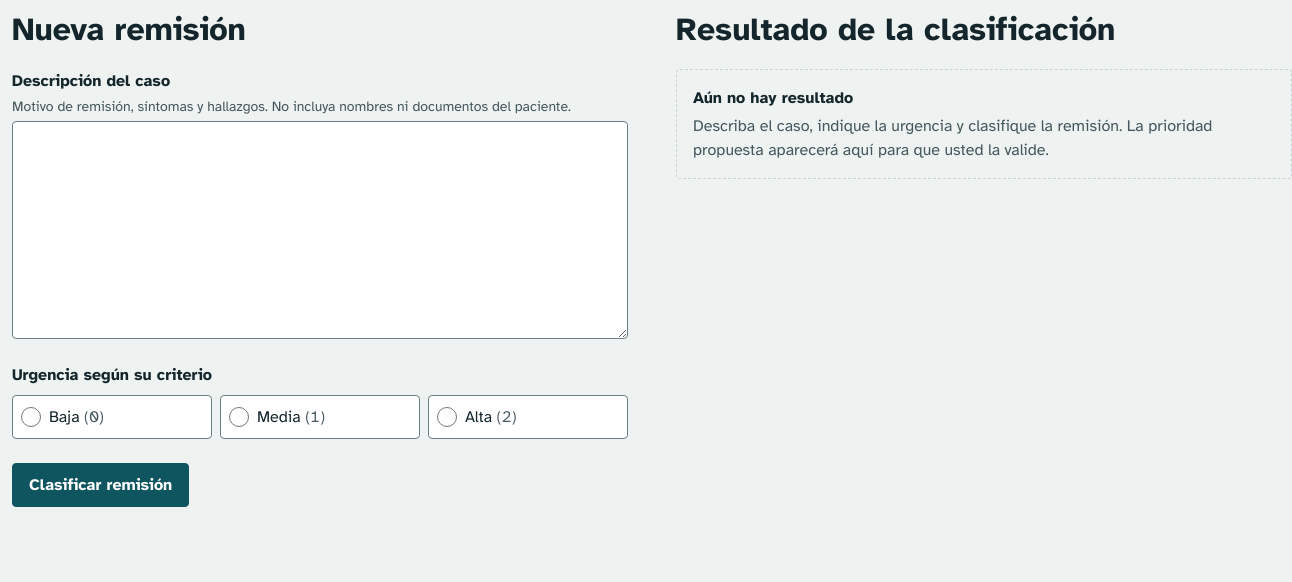
Scenario: Formulario de remisión › no envía nada y explica qué falta si el formulario está incompleto
This screenshot has width=1292, height=582.
Click the button "Clasificar remisión" at (101, 485), box [12,463,189,507]
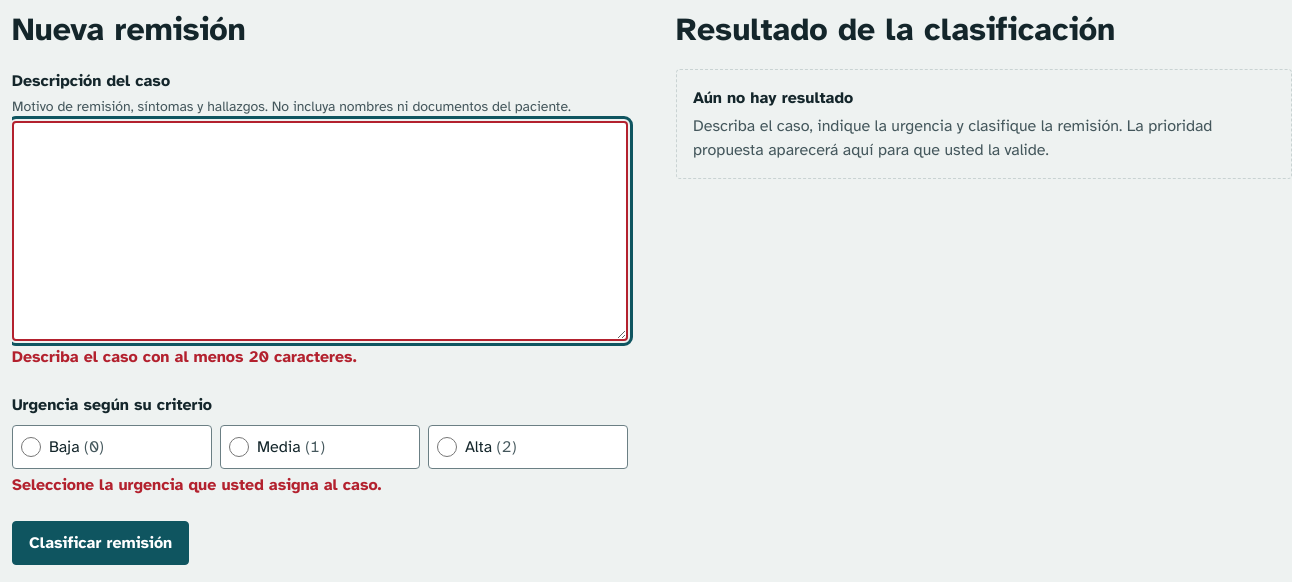
Expected: the text "Aún no hay resultado" is shown, [693,88,853,108]
Now the text "Seleccione la urgencia que usted asigna al caso." is shown, box [12,475,382,495]
